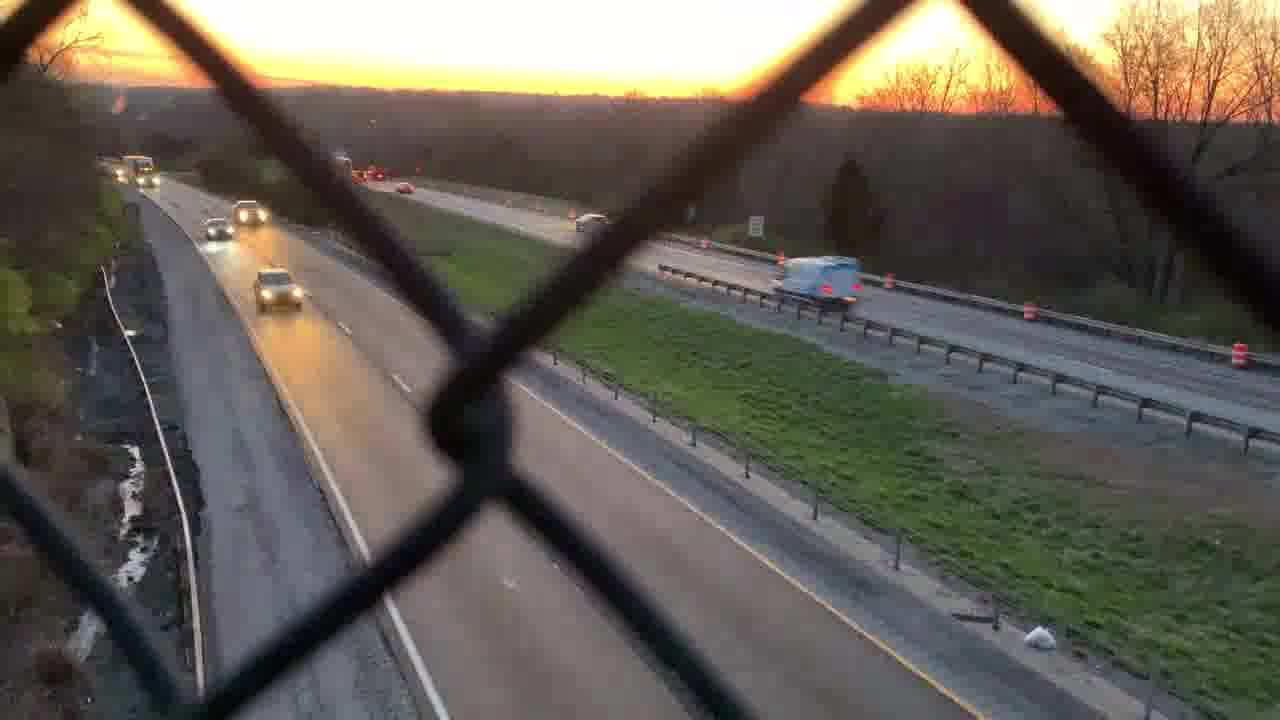lightTruck: (772, 248, 861, 307)
